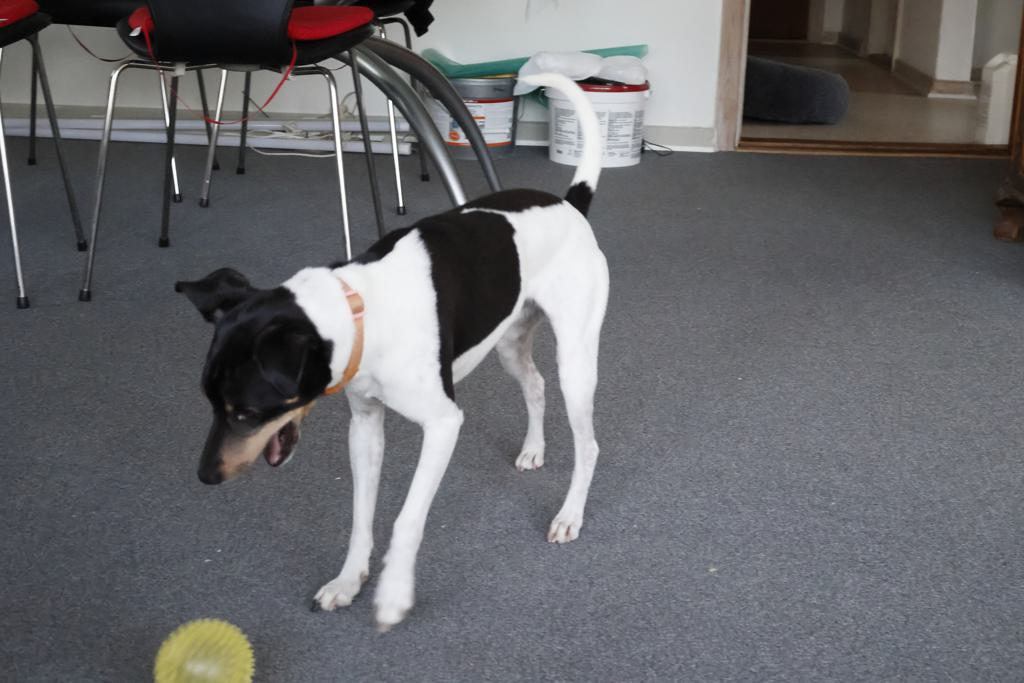Dog: (166, 64, 618, 646)
